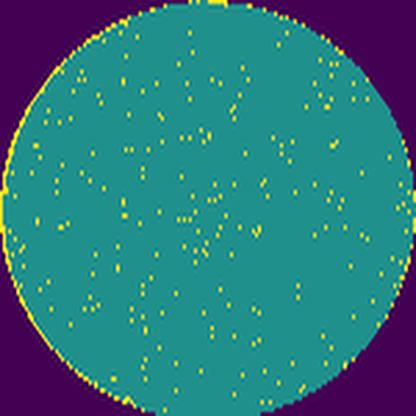Donut: (0, 0, 165, 416)
